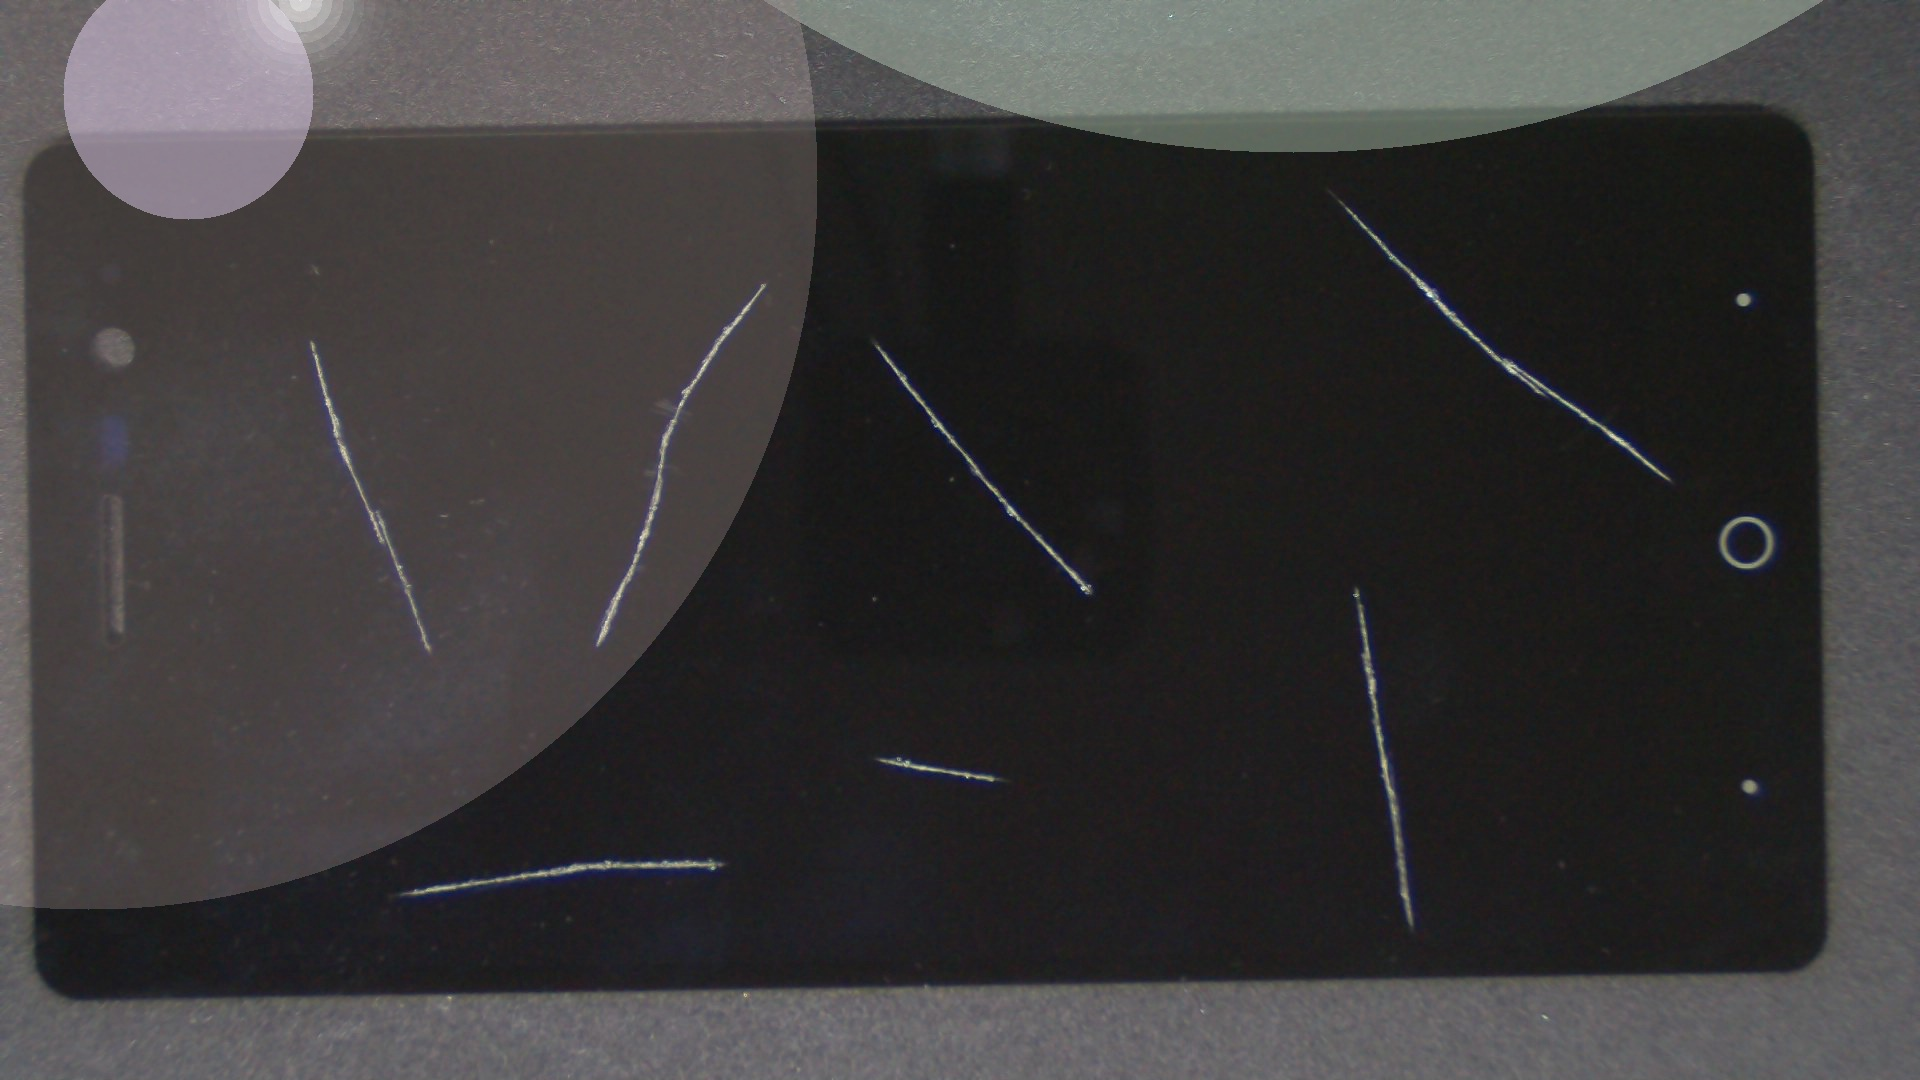oil: (678, 293, 1920, 880), (436, 377, 1311, 1080), (355, 427, 1063, 1080), (439, 170, 1312, 516), (665, 94, 1920, 282), (382, 141, 1147, 423), (156, 169, 465, 509)
